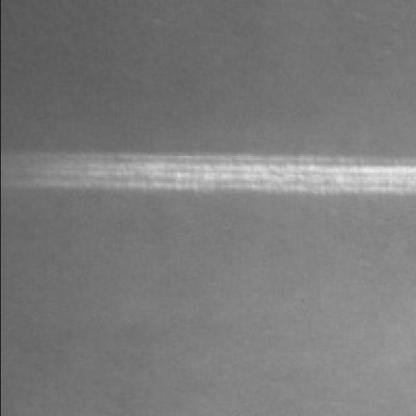scratches: (19, 152, 412, 202)
